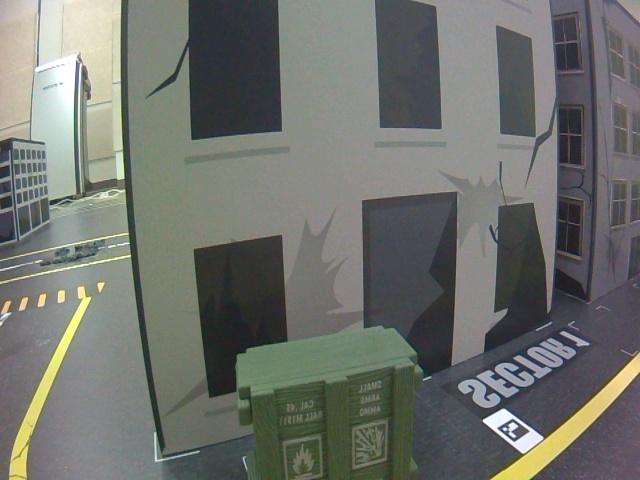Box: (233, 322, 441, 480)
